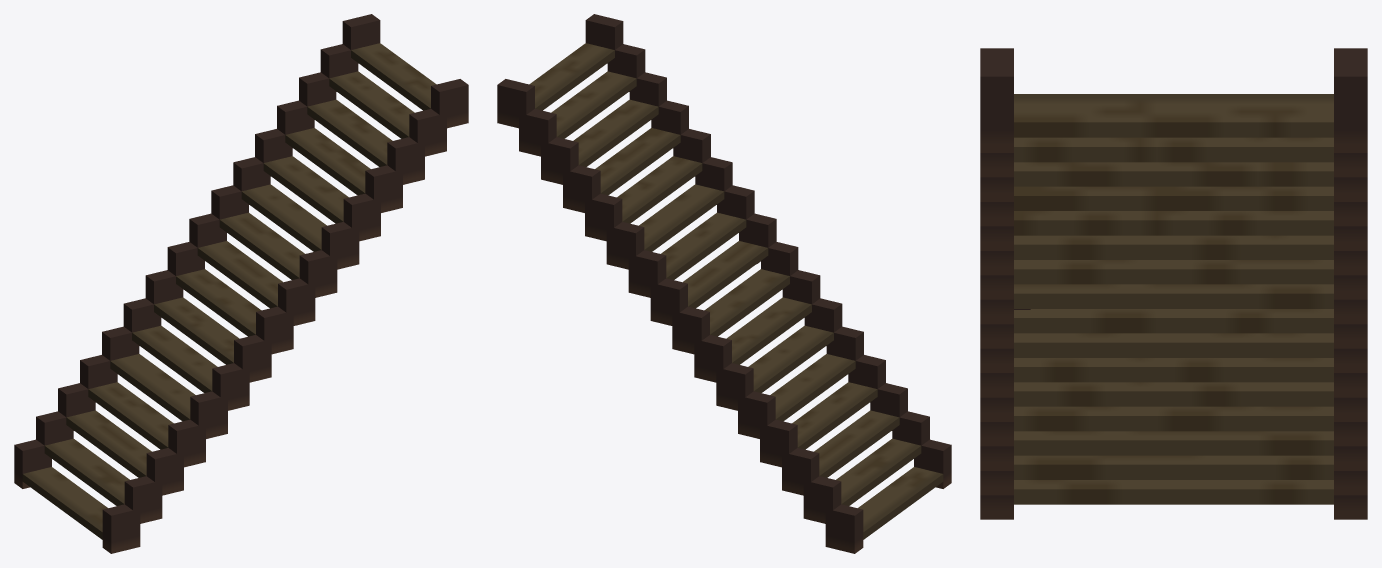
Rendered from Outer_Stairs_00.fbx.
The picture shows the model from 3 angles, left to right: view 1: azimuth 30°, elevation 25°; view 2: azimuth 150°, elevation 25°; view 3: azimuth 270°, elevation 25°; orthographic projection. The views are drawn at different scales.
Parts seen in each view (by area): view 1: Outer_Stairs_00; view 2: Outer_Stairs_00; view 3: Outer_Stairs_00.
Boxes of the visible parts, left/top/right/bottom form: Outer_Stairs_00: left=14, top=14, right=468, bottom=553; Outer_Stairs_00: left=497, top=14, right=951, bottom=553; Outer_Stairs_00: left=980, top=48, right=1367, bottom=519.
Size of the model in its own units: 245 by 250 by 115.
